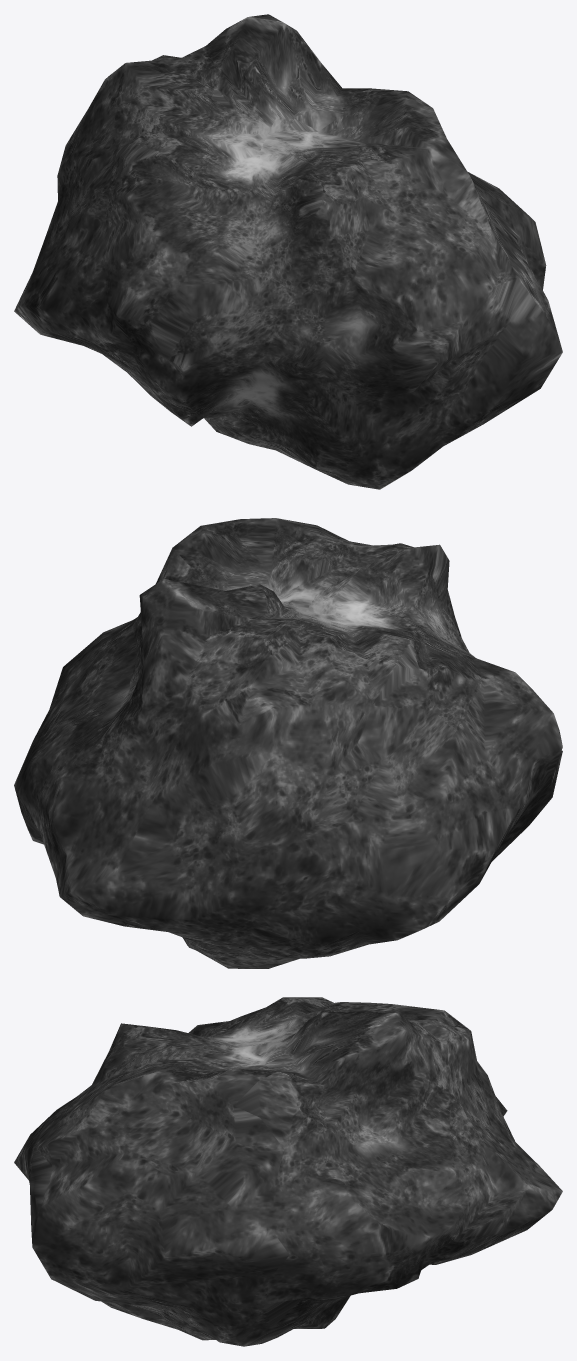
File: Asteroid_01_Small.FBX
3 views of the same model, one above another, from view 1: azimuth 30°, elevation 25°; view 2: azimuth 150°, elevation 25°; view 3: azimuth 270°, elevation 25° (orthographic). The views are drawn at different scales.
Visible parts, largest first — view 1: Asteroid_01_Small; view 2: Asteroid_01_Small; view 3: Asteroid_01_Small.
Part boxes in pixels (x1=…): Asteroid_01_Small: x1=14, y1=14, x2=562, y2=489; Asteroid_01_Small: x1=14, y1=518, x2=562, y2=968; Asteroid_01_Small: x1=14, y1=997, x2=562, y2=1346.
Size of the model in its own units: 3.9 by 3.19 by 4.86.
